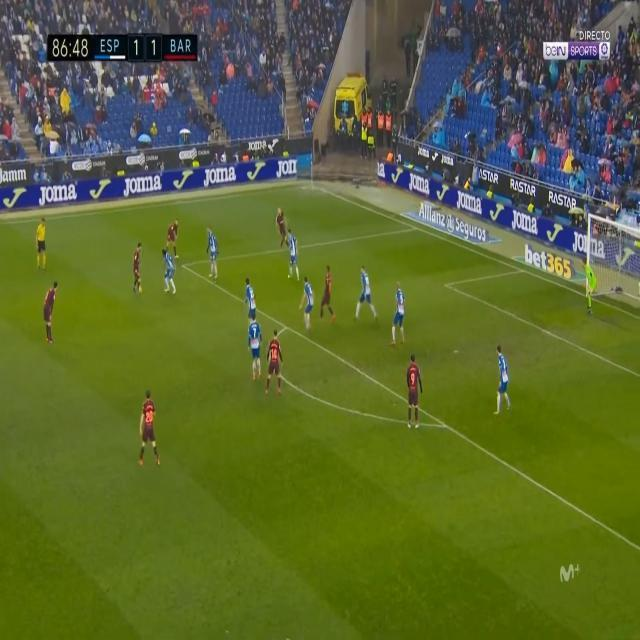ball: (139, 286, 143, 294)
goalkeeper: (581, 252, 603, 327)
player: (136, 380, 161, 473), (37, 268, 64, 350), (351, 261, 382, 330), (401, 348, 426, 433), (242, 313, 267, 386), (492, 339, 514, 419), (197, 221, 223, 282), (388, 278, 410, 349), (318, 260, 339, 325), (157, 244, 181, 298), (282, 226, 304, 283), (265, 328, 283, 396), (299, 269, 318, 333), (128, 238, 147, 297), (243, 275, 263, 328), (165, 215, 186, 258), (275, 201, 292, 250)
referee: (33, 211, 55, 271)
